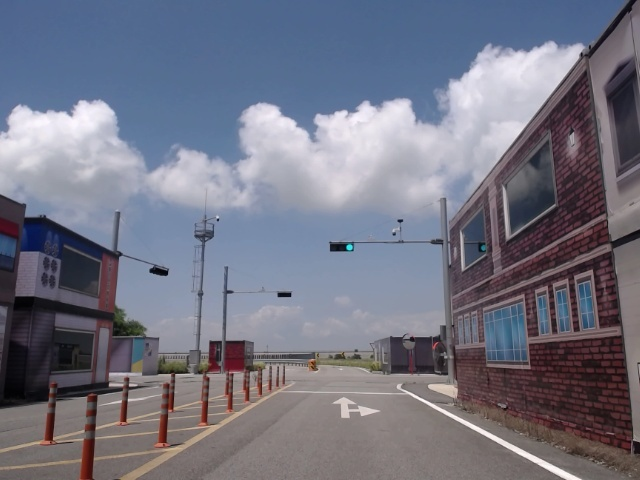green_3: (331, 243, 354, 252)
